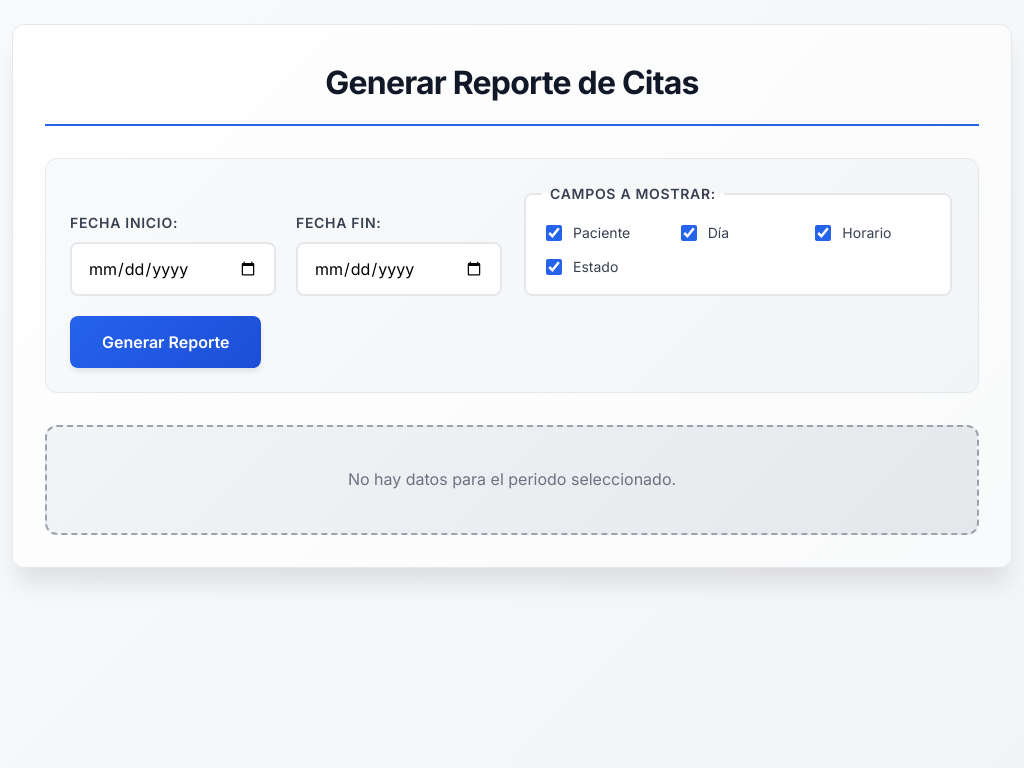
Scenario: ReporteCitas › muestra los datos de las citas en la tabla
This screenshot has width=1024, height=768.
Type "2025-07-01" into the date field labelled "Fecha inicio:" at (173, 269), box [70,242,276,296]
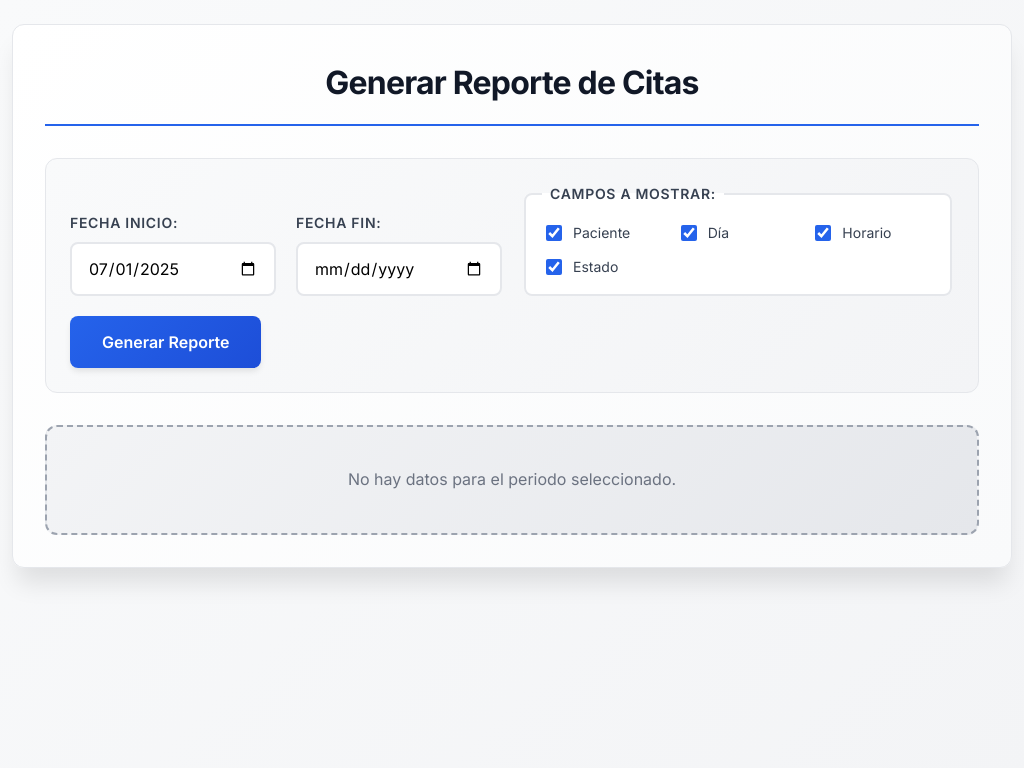
Type "2025-07-31" into the date field labelled "Fecha fin:" at (399, 269), box [296,242,502,296]
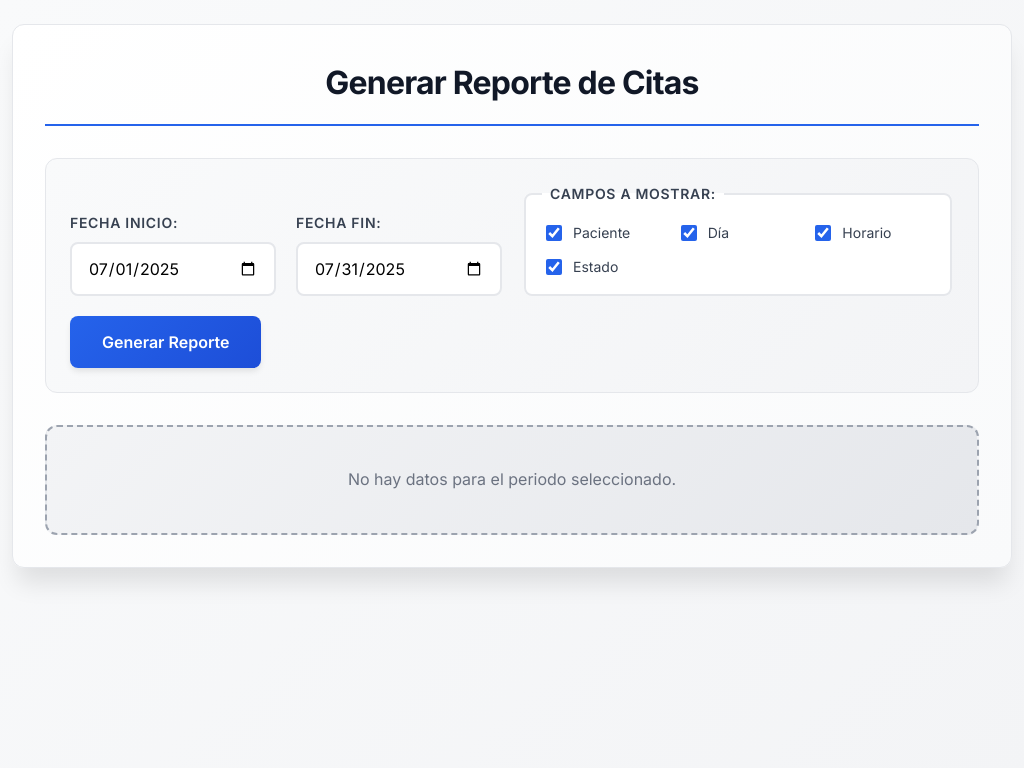
Click the button "Generar Reporte" at (166, 342), box [70,316,262,368]
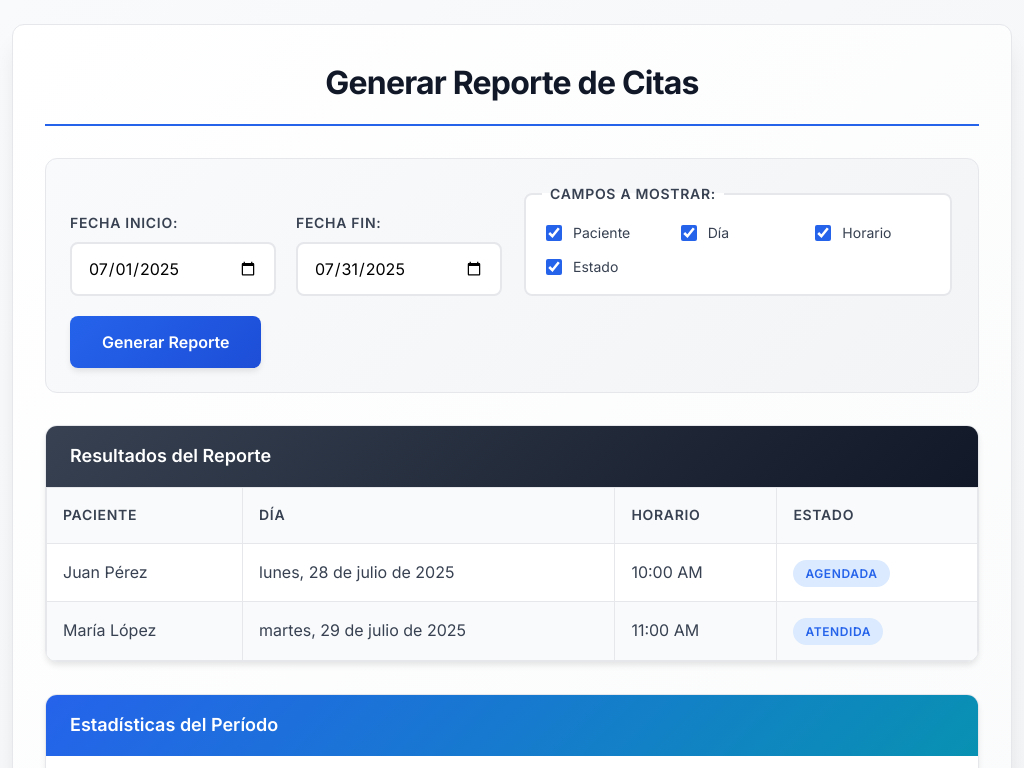
Check: the text "Juan Pérez" is shown, box [46,543,242,602]
Check: the text "María López" is shown, box [46,602,242,660]
Check: the text "10:00 AM" is shown, box [615,543,777,602]
